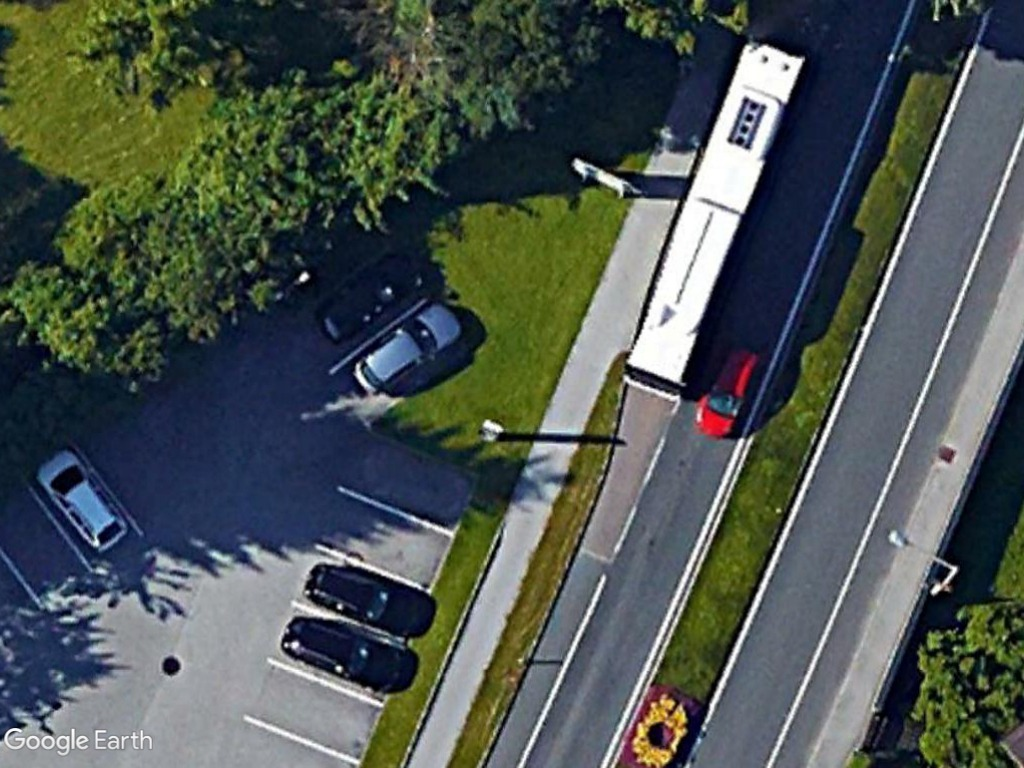bus: (616, 34, 810, 400)
car: (349, 298, 468, 400), (279, 610, 411, 694), (314, 247, 423, 348), (30, 450, 132, 557), (304, 561, 424, 638), (689, 339, 762, 439)
